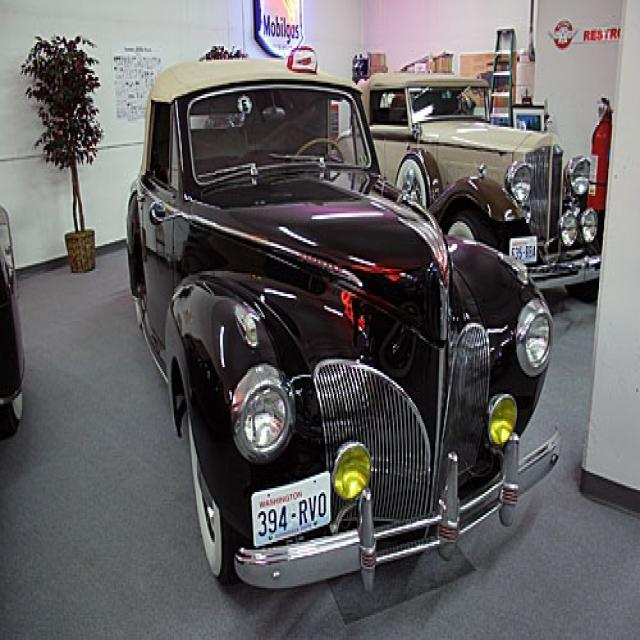car: (125, 54, 562, 592), (354, 69, 603, 306)
pottedplant: (20, 32, 104, 276)
